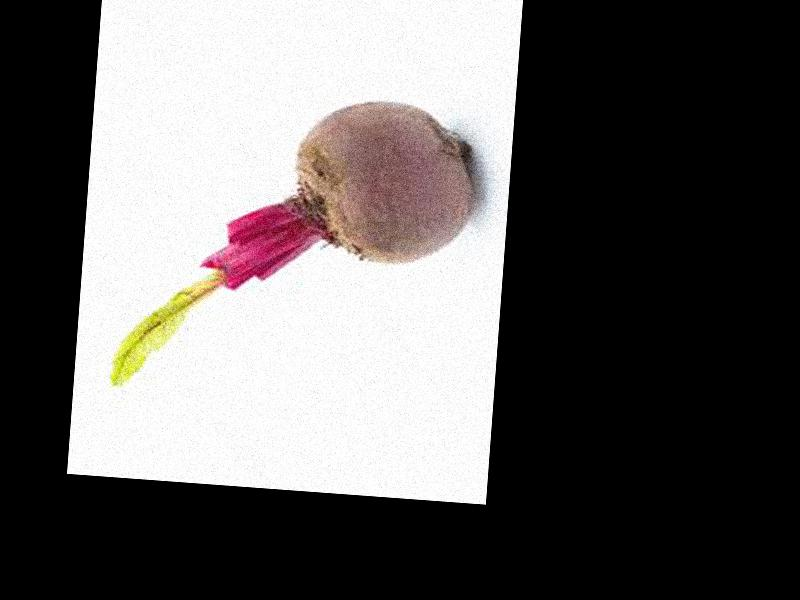Beet: (110, 82, 478, 408)
